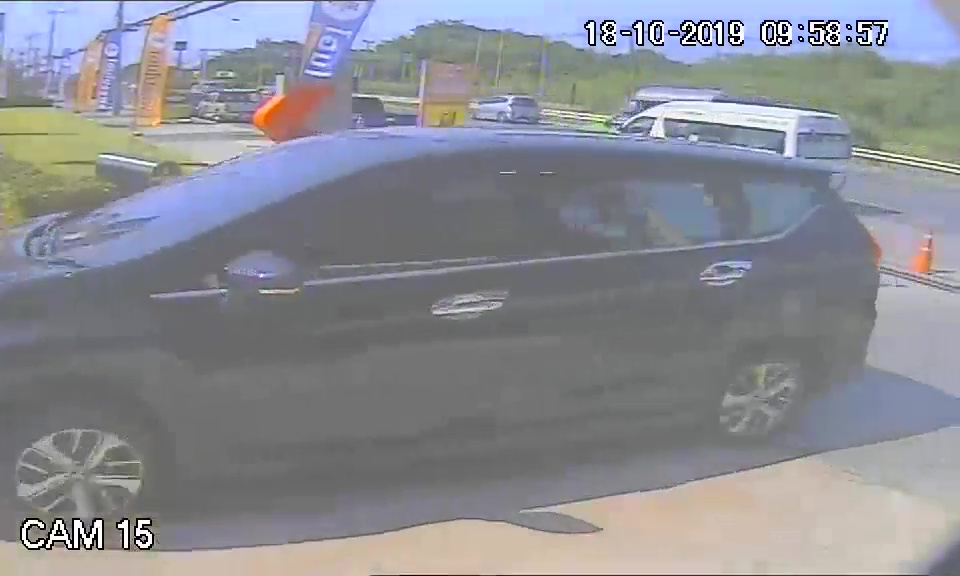pickup: (18, 119, 881, 488)
